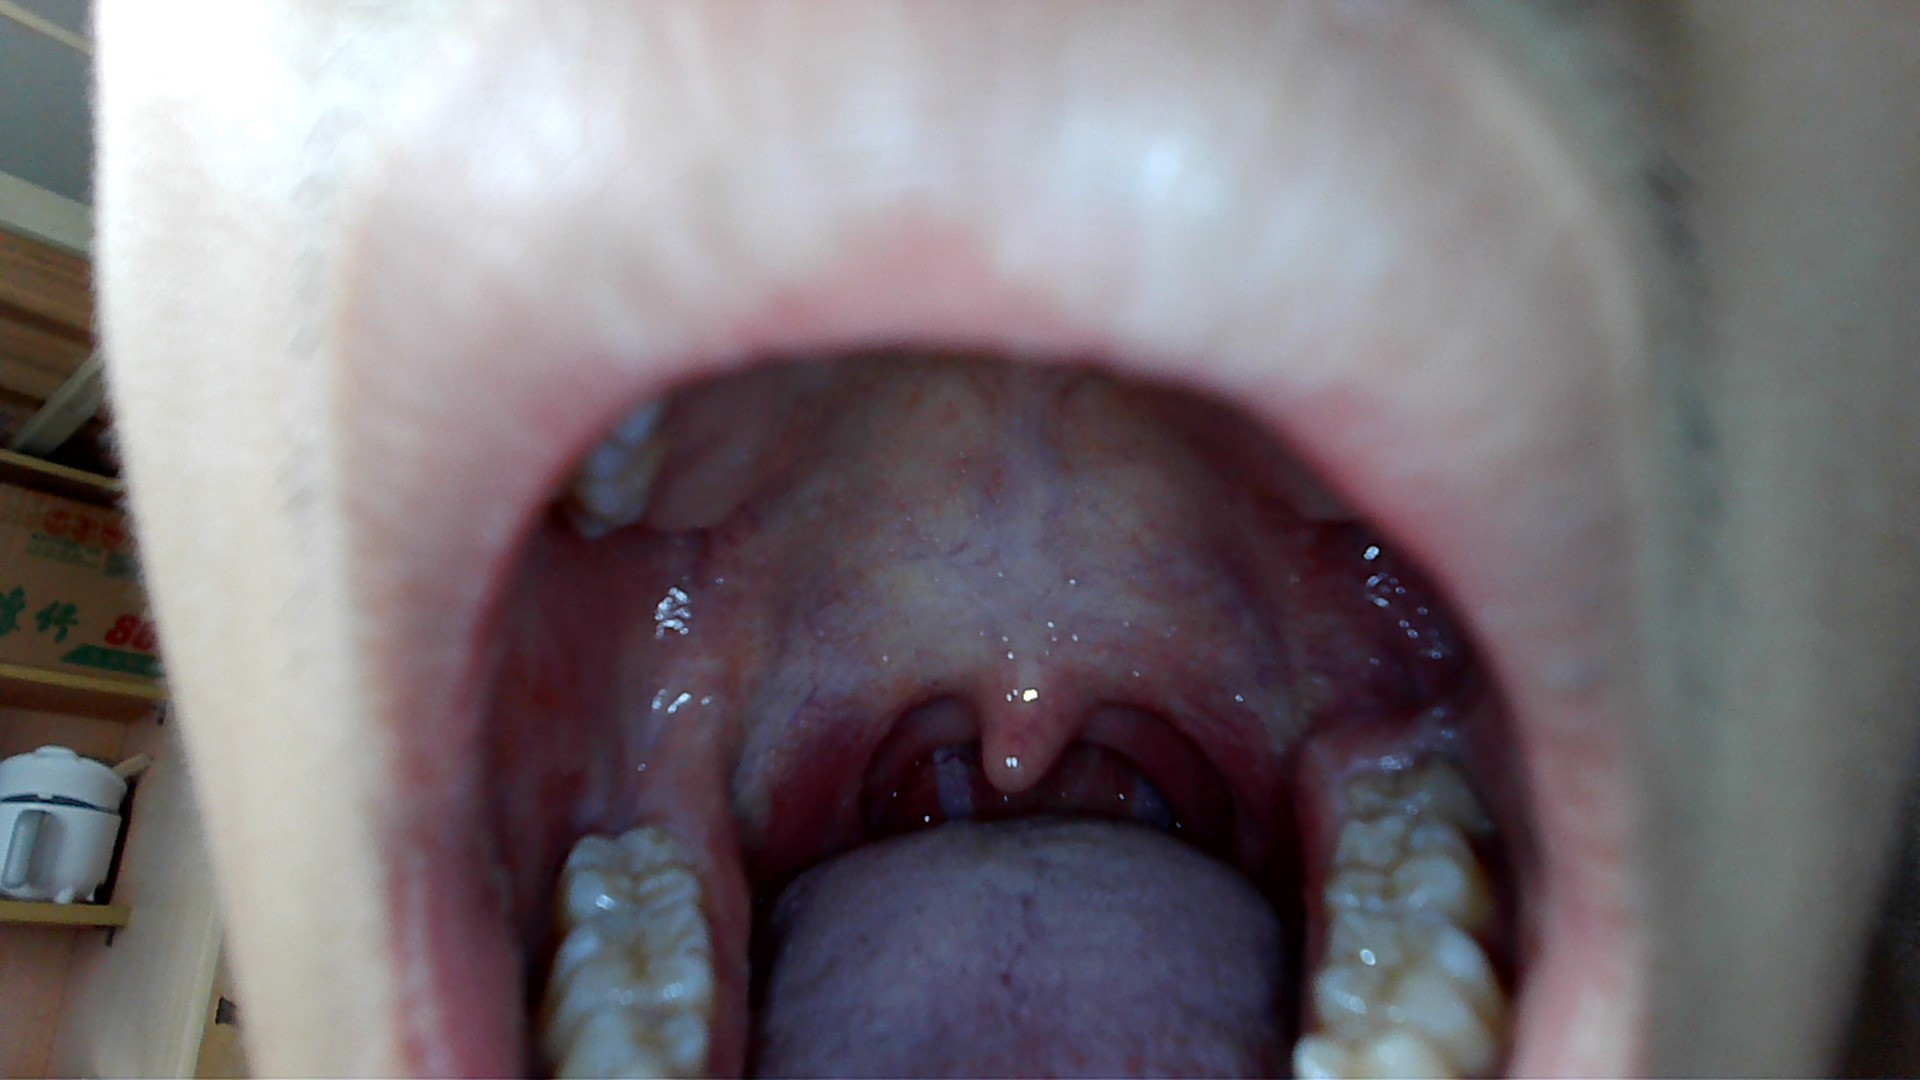throat: (1130, 655, 1246, 816), (818, 665, 922, 820)
